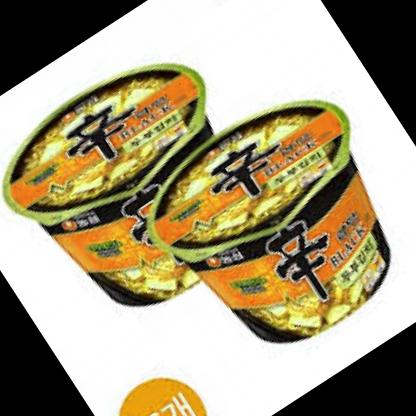Ramen: (0, 29, 292, 350), (140, 81, 416, 369)
